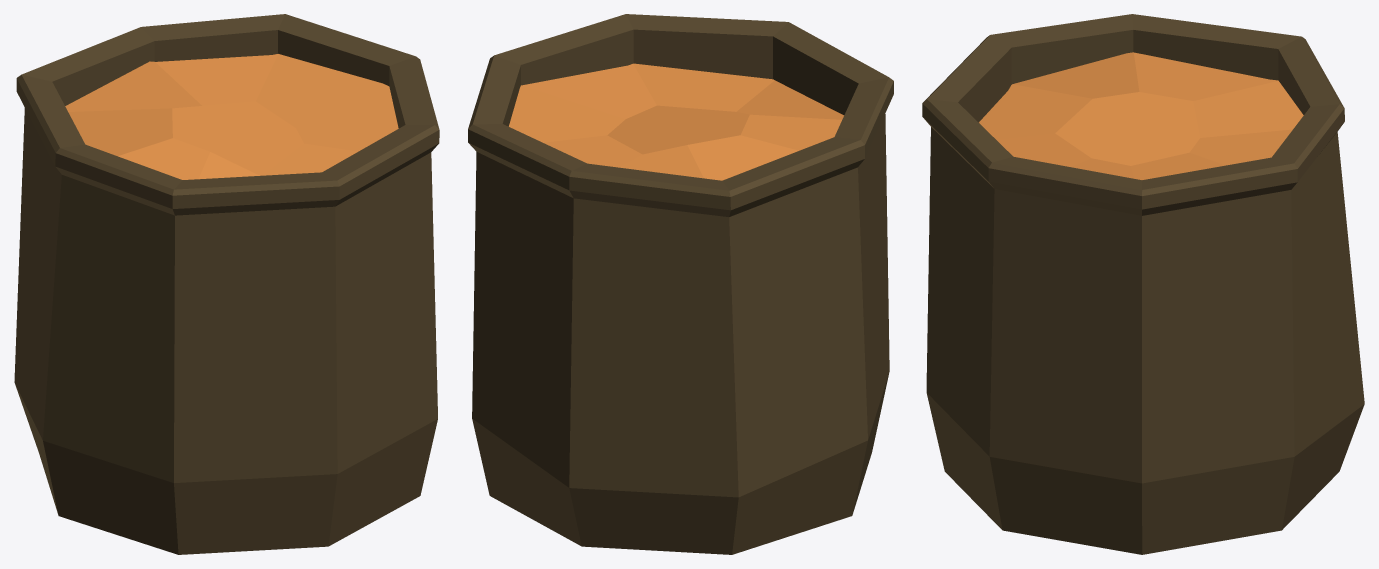
Rendered from Bag_1.fbx.
The picture shows the model from 3 angles, left to right: view 1: azimuth 30°, elevation 25°; view 2: azimuth 150°, elevation 25°; view 3: azimuth 270°, elevation 25°; orthographic projection.
Parts seen in each view (by area): view 1: Bag_1; view 2: Bag_1; view 3: Bag_1.
Part boxes in pixels (left/top/right/bottom): Bag_1: left=14, top=14, right=439, bottom=554; Bag_1: left=468, top=14, right=893, bottom=554; Bag_1: left=922, top=14, right=1364, bottom=554.
Bounding box in the file's own units: 107 × 101 × 109.
